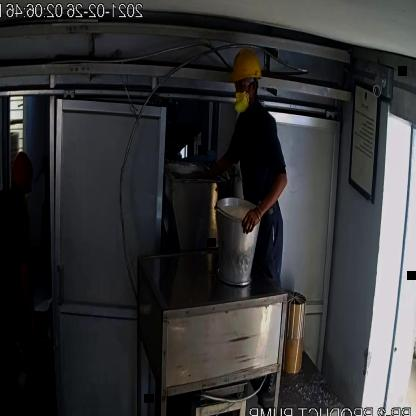helmet: (224, 47, 268, 89)
